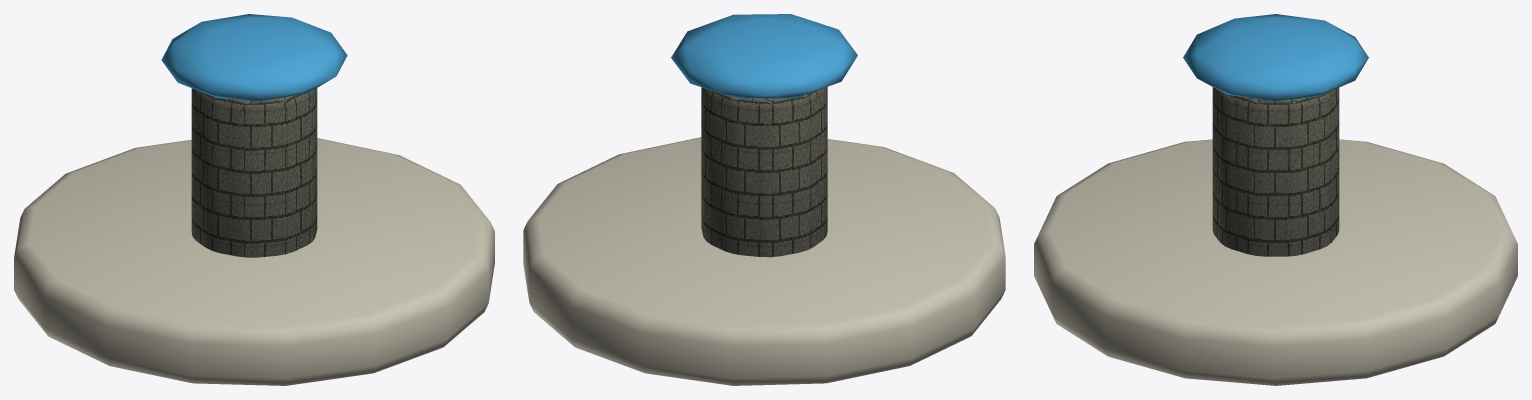
The model's file is fountain.glb.
3 views of the same model, side by side, from view 1: azimuth 30°, elevation 25°; view 2: azimuth 150°, elevation 25°; view 3: azimuth 270°, elevation 25° (orthographic).
Parts seen in each view (by area): view 1: fountain_basin, fountain_pedestal, fountain_water; view 2: fountain_basin, fountain_pedestal, fountain_water; view 3: fountain_basin, fountain_pedestal, fountain_water.
Boxes of the visible parts, left/top/right/bottom form: fountain_basin: left=14, top=138, right=494, bottom=385; fountain_pedestal: left=191, top=88, right=317, bottom=257; fountain_water: left=161, top=14, right=347, bottom=101; fountain_basin: left=523, top=137, right=1005, bottom=385; fountain_pedestal: left=701, top=87, right=827, bottom=257; fountain_water: left=671, top=14, right=857, bottom=98; fountain_basin: left=1034, top=139, right=1517, bottom=385; fountain_pedestal: left=1212, top=87, right=1339, bottom=256; fountain_water: left=1183, top=14, right=1368, bottom=101.
Bounding box in the file's own units: 2.6 × 1.5 × 2.6.
Materials: 3 (1 with a texture image).
